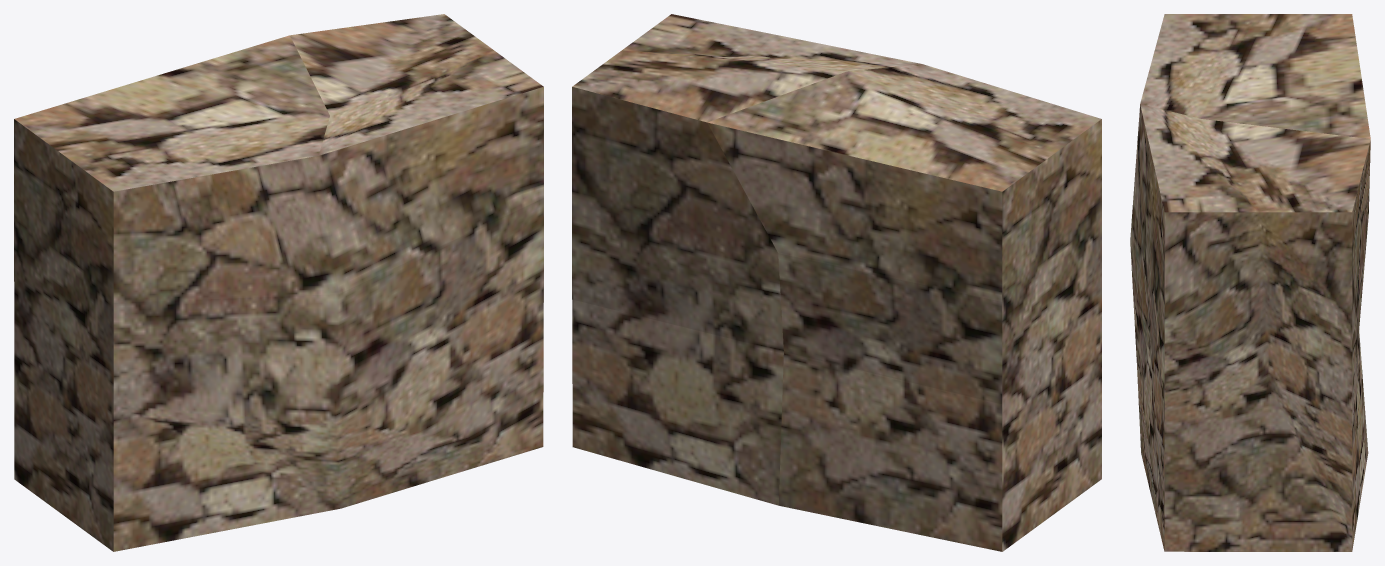
Rendered from Urban_DrystoneWallHalf_Model.fbx.
The picture shows the model from 3 angles, left to right: view 1: azimuth 30°, elevation 25°; view 2: azimuth 150°, elevation 25°; view 3: azimuth 270°, elevation 25°; orthographic projection. The views are drawn at different scales.
Visible parts, largest first — view 1: Urban_DrystoneWallHalf_Mesh; view 2: Urban_DrystoneWallHalf_Mesh; view 3: Urban_DrystoneWallHalf_Mesh.
Part boxes in pixels (left/top/right/bottom): Urban_DrystoneWallHalf_Mesh: left=14, top=14, right=543, bottom=551; Urban_DrystoneWallHalf_Mesh: left=572, top=14, right=1101, bottom=551; Urban_DrystoneWallHalf_Mesh: left=1130, top=14, right=1370, bottom=551.
Size of the model in its own units: 1 by 0.8151 by 0.513.
